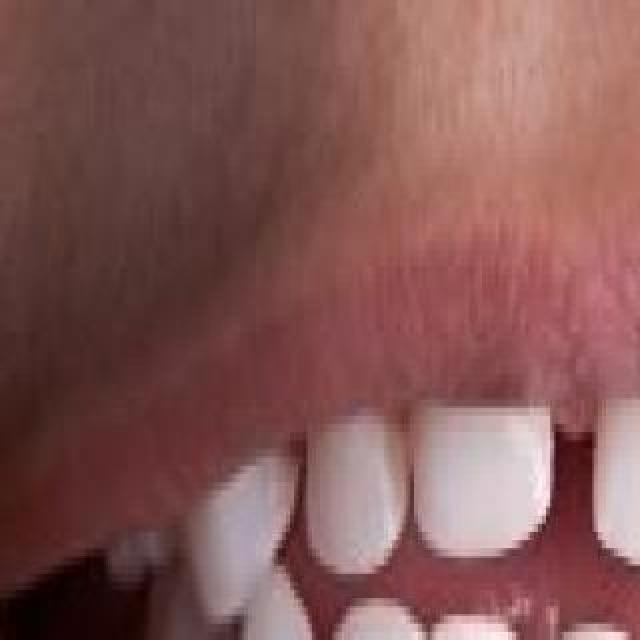spacing: (525, 436, 623, 560), (270, 426, 304, 488), (284, 612, 350, 640), (638, 612, 640, 640)
